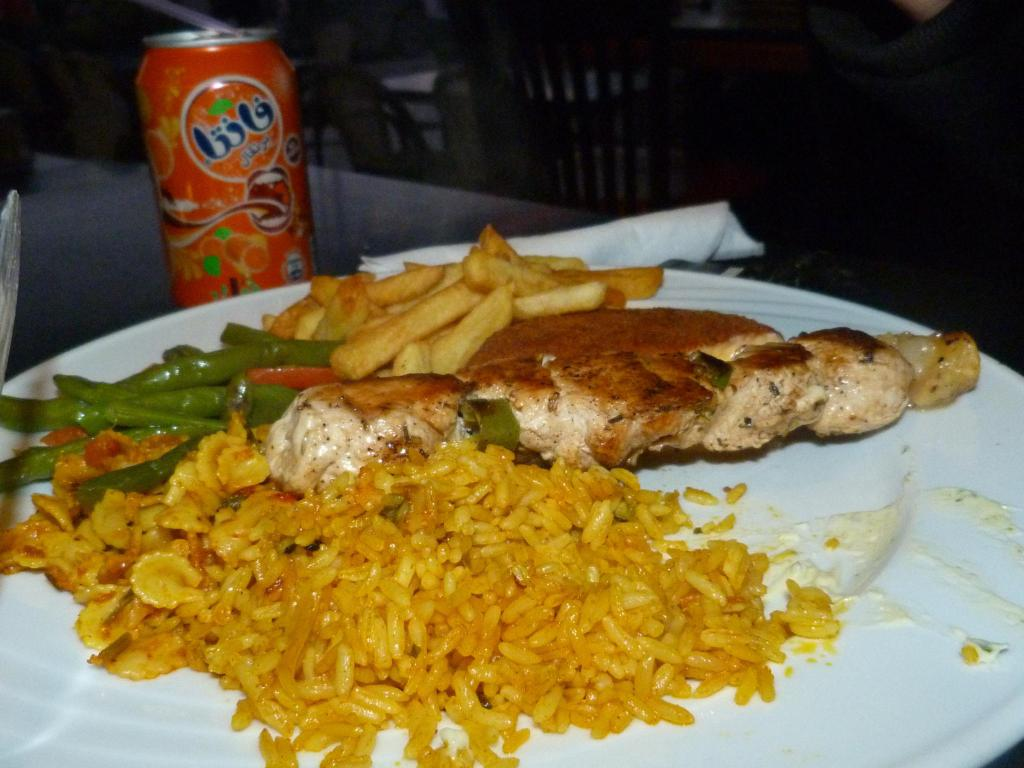French fries: (260, 240, 624, 394)
